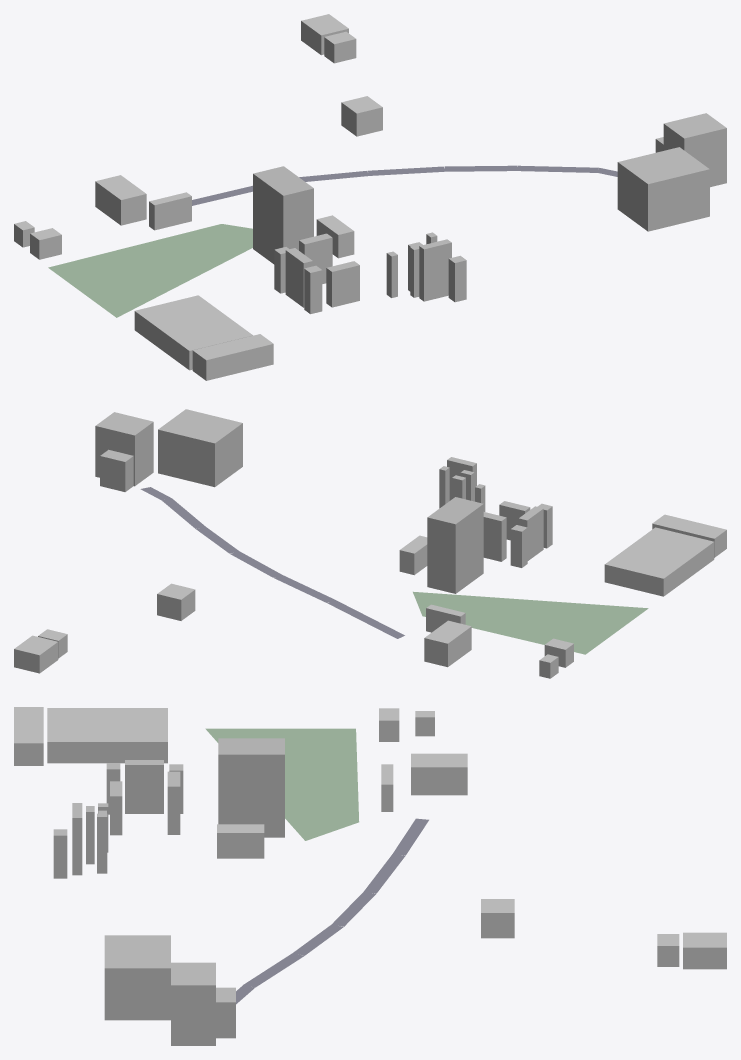
Rendered from 134_109_mid.glb.
3 renders of one model, top to bottom at view 1: azimuth 30°, elevation 25°; view 2: azimuth 150°, elevation 25°; view 3: azimuth 270°, elevation 25°, orthographic. The views are drawn at different scales.
Size of the model in its own units: 491 by 59.74 by 464.
